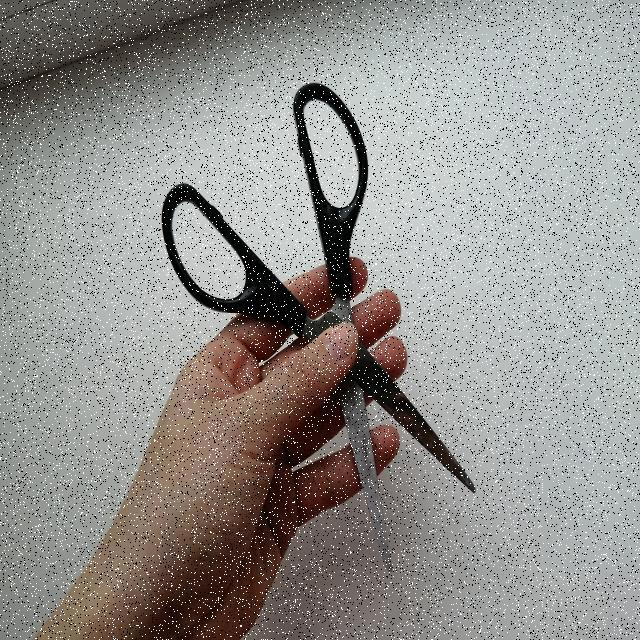scissors: (153, 76, 480, 581)
